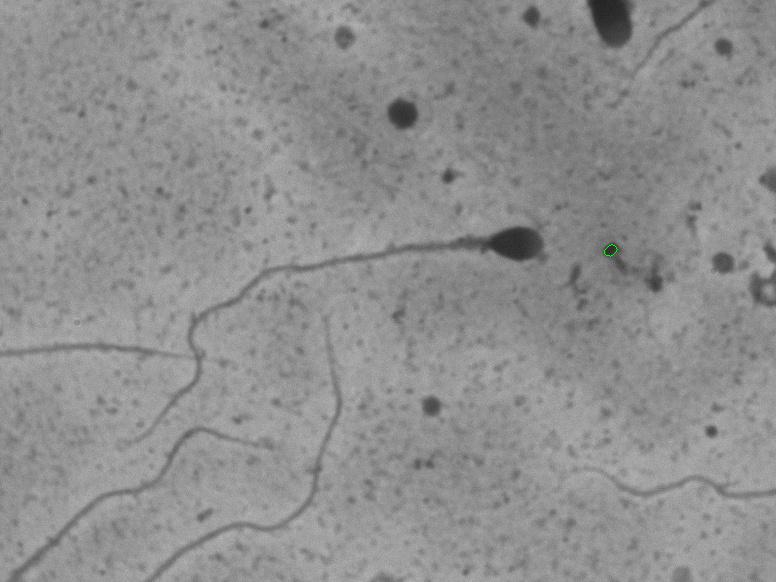Normal: (115, 201, 560, 445)
